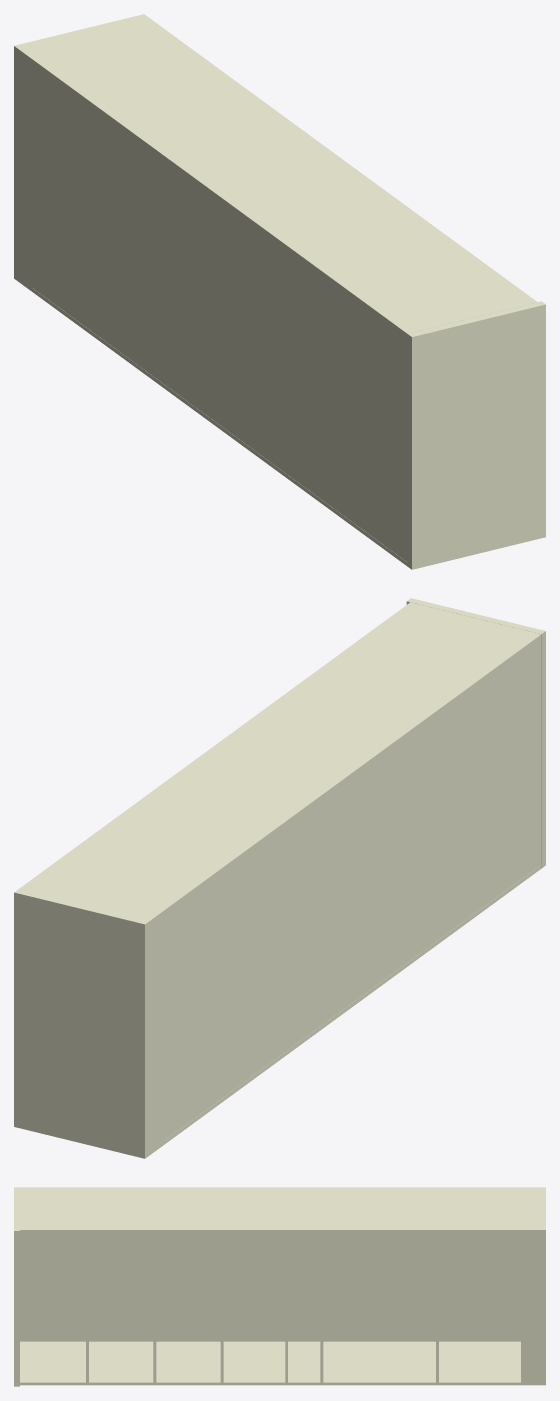
3 renders of one model, top to bottom at view 1: azimuth 30°, elevation 25°; view 2: azimuth 150°, elevation 25°; view 3: azimuth 270°, elevation 25°, orthographic. The views are drawn at different scales.
Parts seen in each view (by area): view 1: ROOT_link (×5); view 2: ROOT_link (×5); view 3: ROOT_link (×11).
Boxes of the visible parts, bbox=[...] form: ROOT_link (×5): bbox=[14, 14, 545, 569]; ROOT_link (×5): bbox=[14, 598, 545, 1158]; ROOT_link (×11): bbox=[14, 1187, 545, 1386].
Size of the model in its own units: 0.353 by 0.586 by 1.82.
